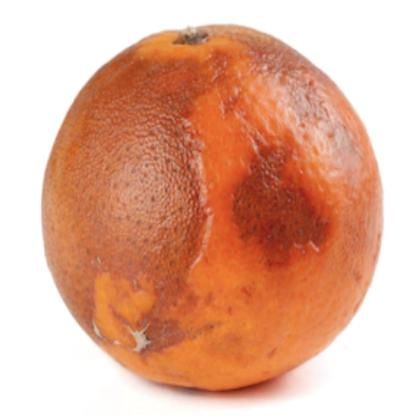rotten: (41, 28, 382, 392)
